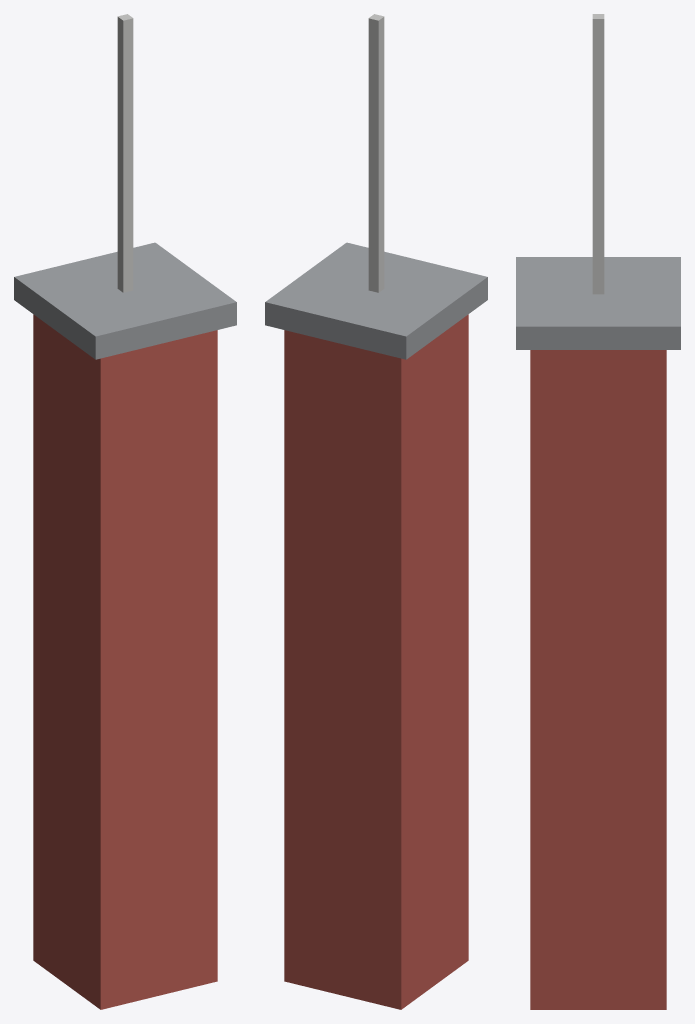
File: sniper-mast.zfix-v1.lod2.glb
The picture shows the model from 3 angles, left to right: view 1: azimuth 30°, elevation 25°; view 2: azimuth 150°, elevation 25°; view 3: azimuth 270°, elevation 25°; orthographic projection.
Parts seen in each view (by area): view 1: sniper-mast; view 2: sniper-mast; view 3: sniper-mast.
Boxes of the visible parts, x1=… form: sniper-mast: x1=14, y1=14, x2=236, y2=1009; sniper-mast: x1=265, y1=14, x2=487, y2=1009; sniper-mast: x1=516, y1=14, x2=680, y2=1009.
Bounding box in the file's own units: 7 × 45.2 × 7.
